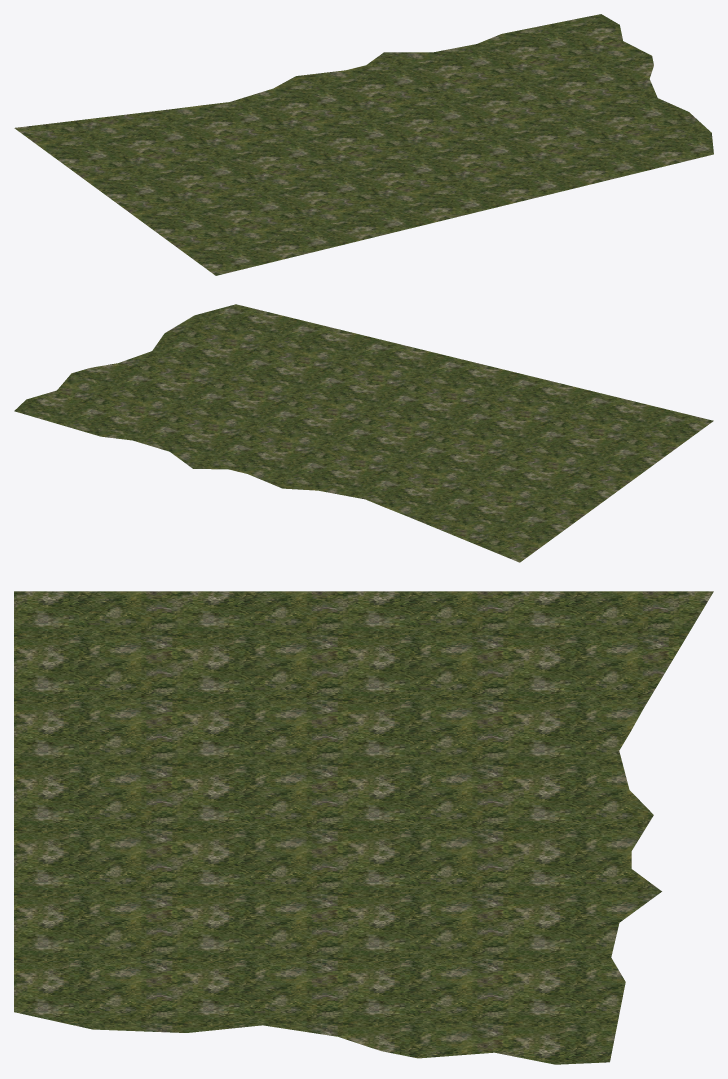
The model's file is CB_NEWPLAYSURFACE_CB_PLAYSURFACE12.fbx.
3 views of the same model, one above another, from view 1: azimuth 30°, elevation 25°; view 2: azimuth 150°, elevation 25°; view 3: azimuth 270°, elevation 25° (orthographic). The views are drawn at different scales.
Parts seen in each view (by area): view 1: CB_NEWPLAYSURFACE_CB_PLAYSURFACE12; view 2: CB_NEWPLAYSURFACE_CB_PLAYSURFACE12; view 3: CB_NEWPLAYSURFACE_CB_PLAYSURFACE12.
Boxes of the visible parts, x1,y1,x2,y2 form: CB_NEWPLAYSURFACE_CB_PLAYSURFACE12: (14, 14, 713, 275); CB_NEWPLAYSURFACE_CB_PLAYSURFACE12: (14, 304, 713, 562); CB_NEWPLAYSURFACE_CB_PLAYSURFACE12: (14, 591, 713, 1064).
Size of the model in its own units: 560858 by 29.79 by 350422.
1 material, 1 textured.
